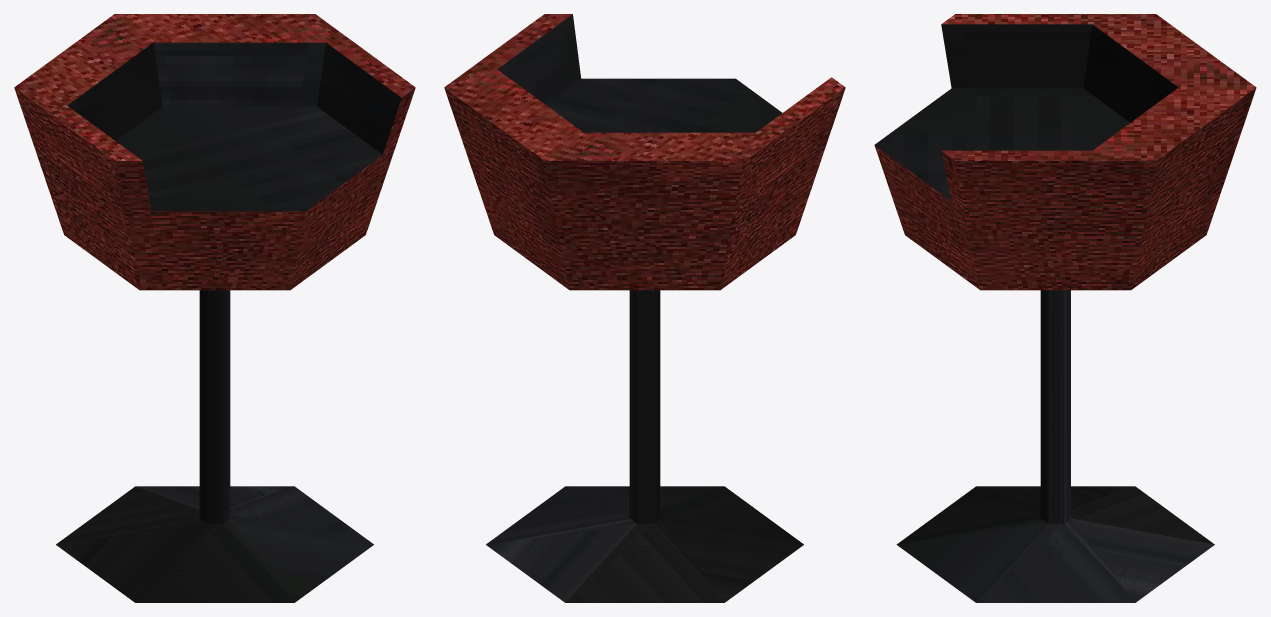
The model's file is clublstool2.glb.
3 views of the same model, side by side, from view 1: azimuth 30°, elevation 25°; view 2: azimuth 150°, elevation 25°; view 3: azimuth 270°, elevation 25° (orthographic).
Parts seen in each view (by area): view 1: STOOL; view 2: STOOL; view 3: STOOL.
Boxes of the visible parts, left/top/right/bottom form: STOOL: left=14, top=14, right=415, bottom=602; STOOL: left=444, top=14, right=845, bottom=602; STOOL: left=874, top=14, right=1256, bottom=602.
Bounding box in the file's own units: 1.73 × 2.51 × 1.9.
Materials: 2 (2 with a texture image).
